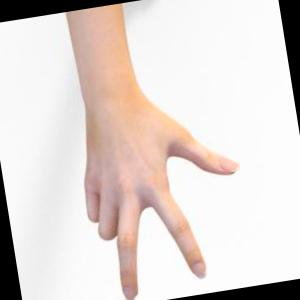scissors: (67, 3, 238, 300)
